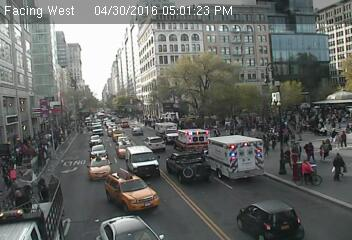pos: (328, 151, 351, 183)
